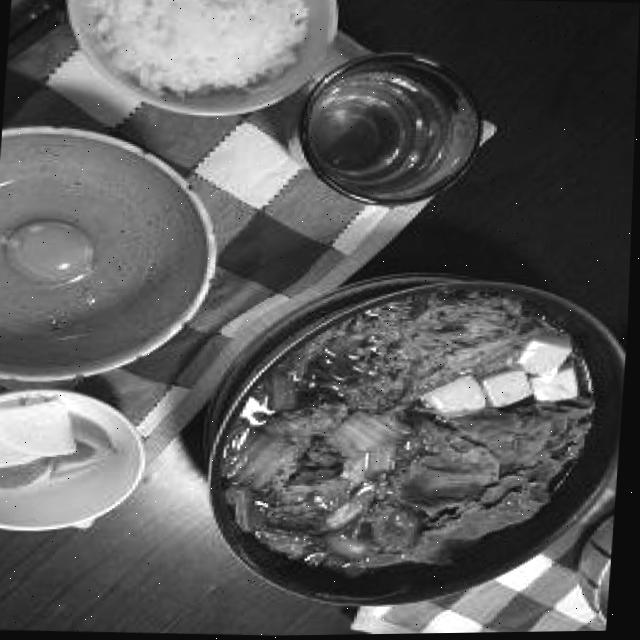米饭主食: (59, 0, 347, 125)
